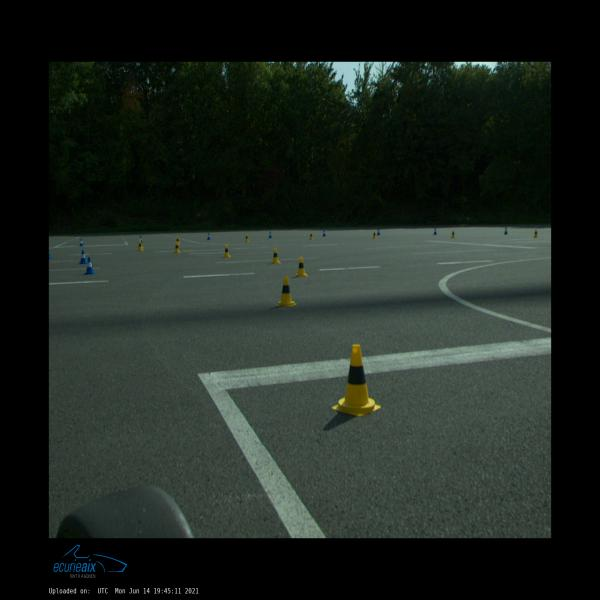blue_cone: (84, 258, 95, 274), (79, 250, 87, 264), (79, 239, 84, 246), (504, 227, 508, 234), (433, 228, 437, 235), (206, 233, 210, 240), (49, 250, 52, 259), (322, 230, 326, 236), (269, 231, 272, 238), (140, 236, 143, 243), (377, 229, 380, 235)
yellow_cone: (332, 344, 381, 416), (276, 276, 296, 306), (295, 257, 308, 277), (271, 248, 281, 264), (223, 244, 231, 258), (174, 242, 180, 253), (450, 230, 456, 238), (138, 241, 143, 250), (534, 229, 538, 238), (372, 231, 376, 239), (245, 234, 249, 242), (176, 236, 180, 244), (309, 232, 313, 239)
